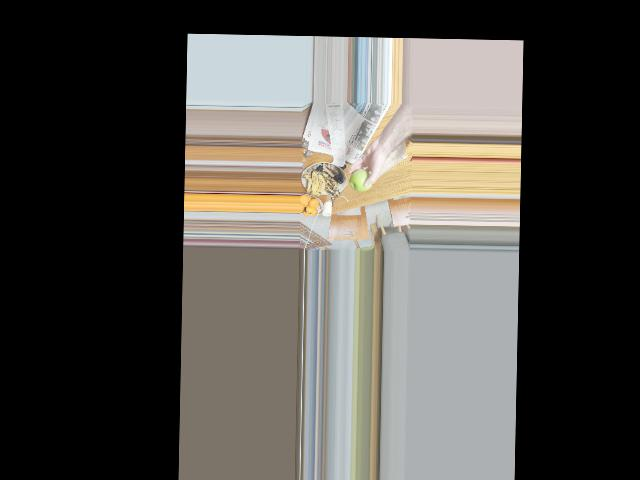apple: (349, 165, 374, 193)
